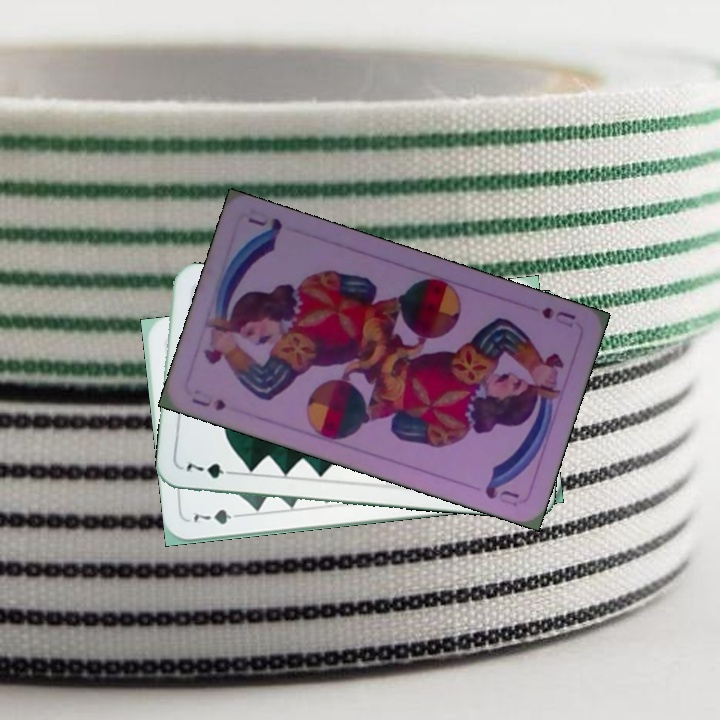G7: (182, 458, 239, 481), (189, 505, 247, 527)
SU: (187, 386, 229, 414), (537, 303, 578, 323)
